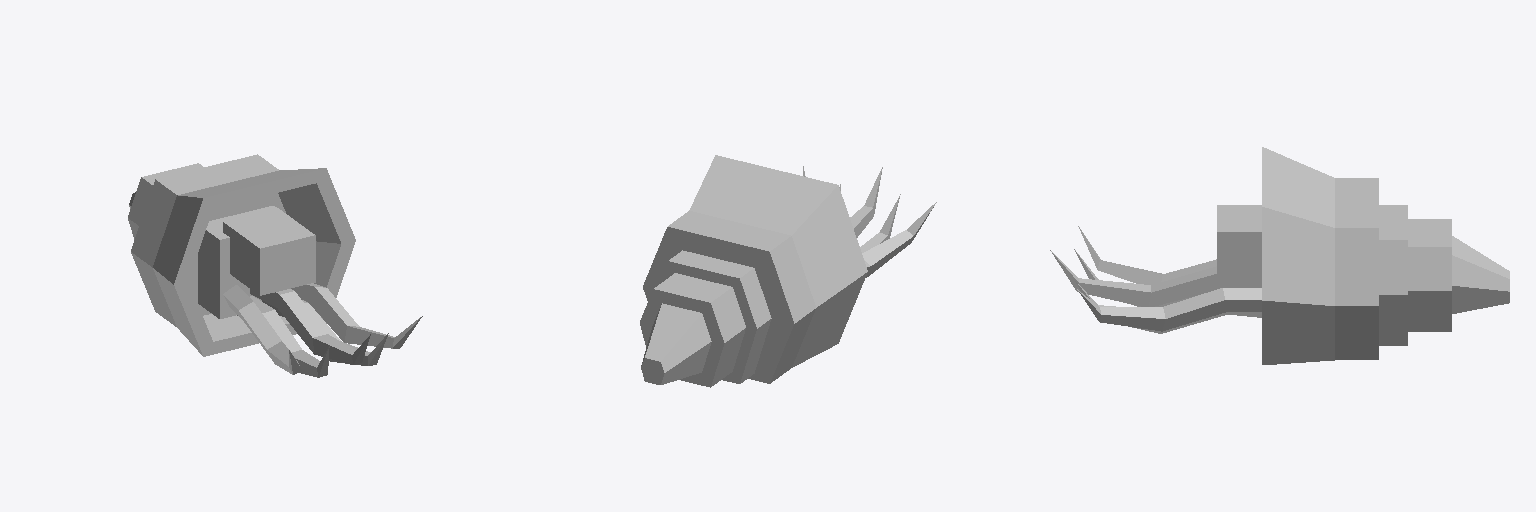
Rendered from skylus.obj.
The picture shows the model from 3 angles: view 1: azimuth 30°, elevation 25°; view 2: azimuth 150°, elevation 25°; view 3: azimuth 270°, elevation 25°; orthographic projection.
Parts seen in each view (by area): view 1: Shell, Head, Body, TentacleM, TentacleL2, TentacleR2, TentacleR1, TentacleL1; view 2: Shell, TentacleR2, TentacleM; view 3: Shell, TentacleL2, TentacleM, Head, TentacleR2.
Boxes of the visible parts, <box> form: Shell: <box>128,154,355,356</box>; Head: <box>223,208,315,295</box>; Body: <box>198,206,276,318</box>; TentacleM: <box>250,289,370,364</box>; TentacleL2: <box>291,283,422,348</box>; TentacleR2: <box>223,285,301,374</box>; TentacleR1: <box>237,296,329,377</box>; TentacleL1: <box>262,300,388,365</box>; Shell: <box>640,155,867,387</box>; TentacleR2: <box>862,202,936,277</box>; TentacleM: <box>850,167,882,237</box>; Shell: <box>1262,147,1509,364</box>; TentacleL2: <box>1077,288,1261,331</box>; TentacleM: <box>1050,250,1261,306</box>; Head: <box>1217,205,1261,279</box>; TentacleR2: <box>1078,226,1216,284</box>.
Size of the model in its own units: 2.45 by 2.04 by 5.36.